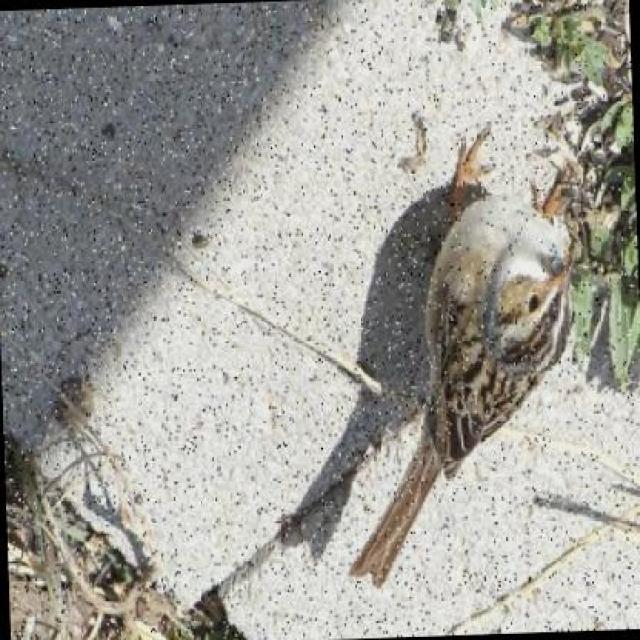Bird: (345, 123, 580, 591)
